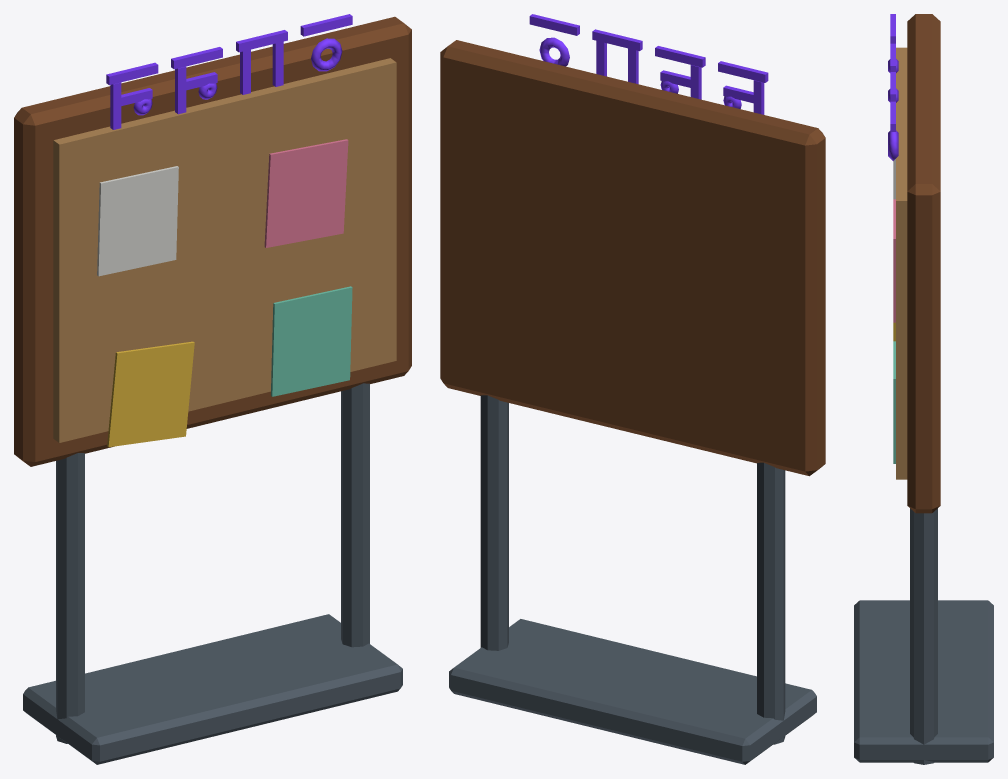
The model's file is lore_stone.fbx.
3 views of the same model, side by side, from view 1: azimuth 30°, elevation 25°; view 2: azimuth 150°, elevation 25°; view 3: azimuth 270°, elevation 25° (orthographic). The views are drawn at different scales.
Parts seen in each view (by area): view 1: lore_stone; view 2: lore_stone; view 3: lore_stone.
Part boxes in pixels (left/top/right/bottom): lore_stone: left=14, top=14, right=411, bottom=764; lore_stone: left=440, top=14, right=825, bottom=764; lore_stone: left=854, top=14, right=993, bottom=764.
Bounding box in the file's own units: 1.5 × 2.47 × 0.5.
